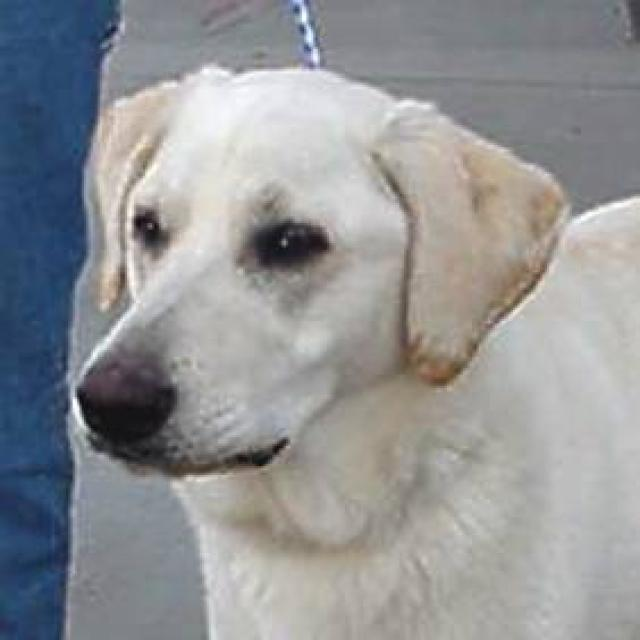dog: (63, 60, 638, 638)
